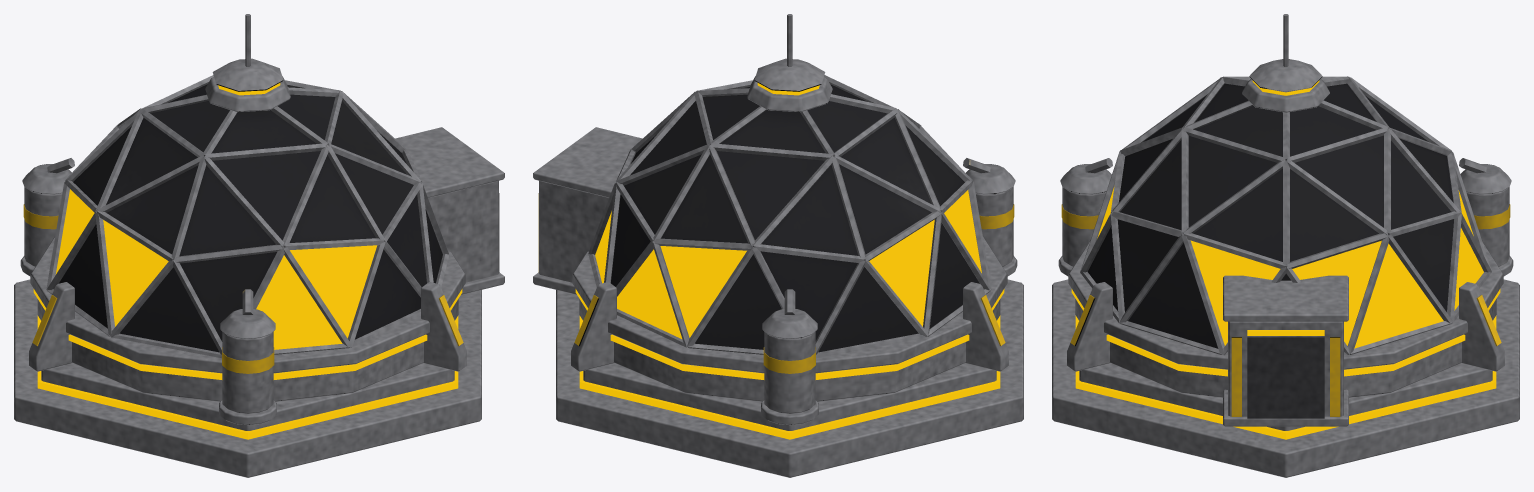
The model's file is nodexeus-dome.glb.
The picture shows the model from 3 angles, left to right: view 1: azimuth 30°, elevation 25°; view 2: azimuth 150°, elevation 25°; view 3: azimuth 270°, elevation 25°; orthographic projection.
Parts seen in each view (by area): view 1: dome; view 2: dome; view 3: dome.
Boxes of the visible parts, x1,y1,x2,y2 form: dome: [14, 14, 504, 477]; dome: [533, 14, 1023, 477]; dome: [1052, 14, 1519, 477].
Size of the model in its own units: 3.07 by 2.2 by 2.67.
1 material, 1 textured.
